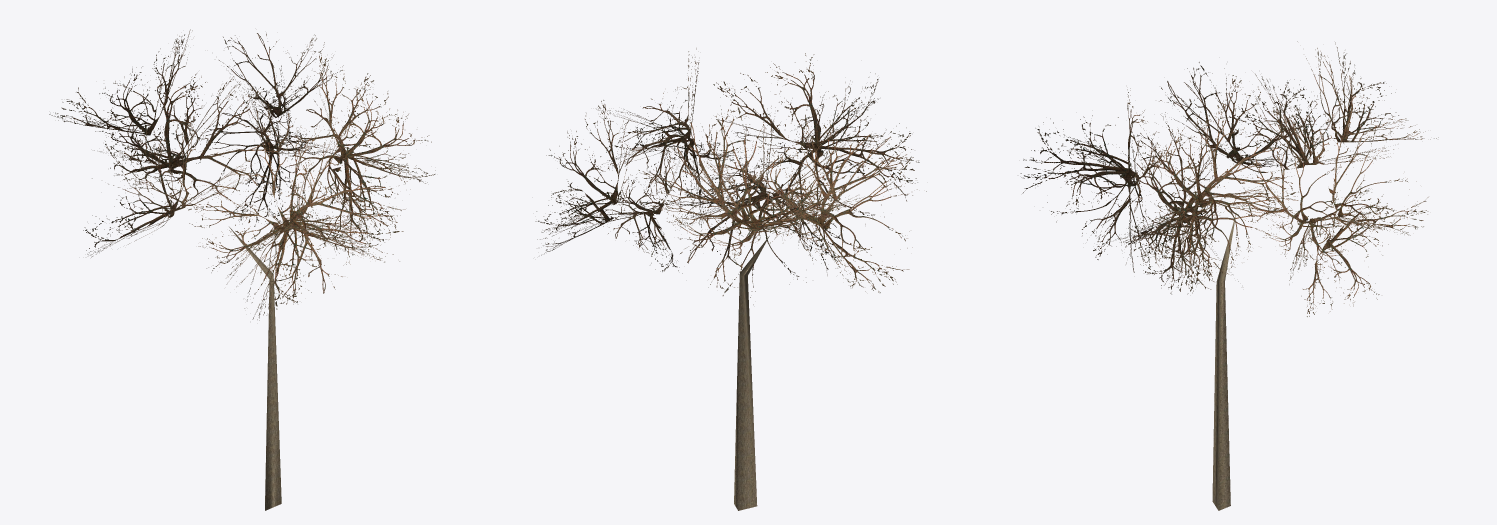
Rendered from decd_mapletreebranches_a1_l2.fbx.
The picture shows the model from 3 angles, left to right: view 1: azimuth 30°, elevation 25°; view 2: azimuth 150°, elevation 25°; view 3: azimuth 270°, elevation 25°; orthographic projection. The views are drawn at different scales.
Parts seen in each view (by area): view 1: mesh_node; view 2: mesh_node; view 3: mesh_node.
Boxes of the visible parts, box(x1,y1,x2,y2) form: mesh_node: box(49, 29, 435, 510); mesh_node: box(535, 48, 926, 510); mesh_node: box(1020, 41, 1438, 510).
Bounding box in the file's own units: 15.69 × 18.7 × 18.41.
